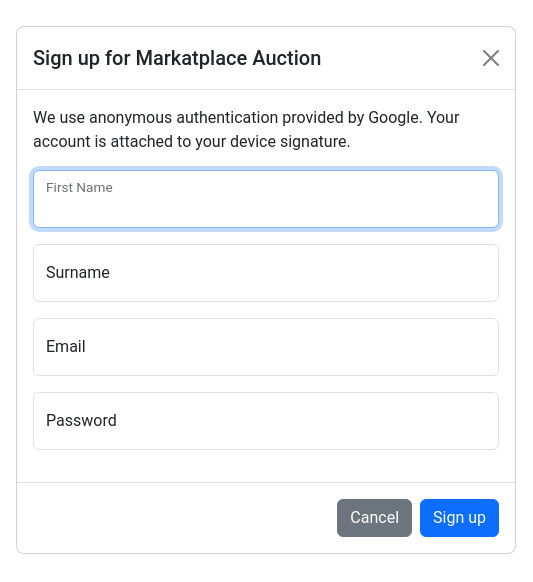
Test: SignUpModal › Firebase error display › displays Firebase error message when createUserWithEmailAndPassword rejects
Type "Jane" into the field with placeholder "Enter your first name".
click(266, 199); type("Jane")  # box [33, 170, 499, 228]
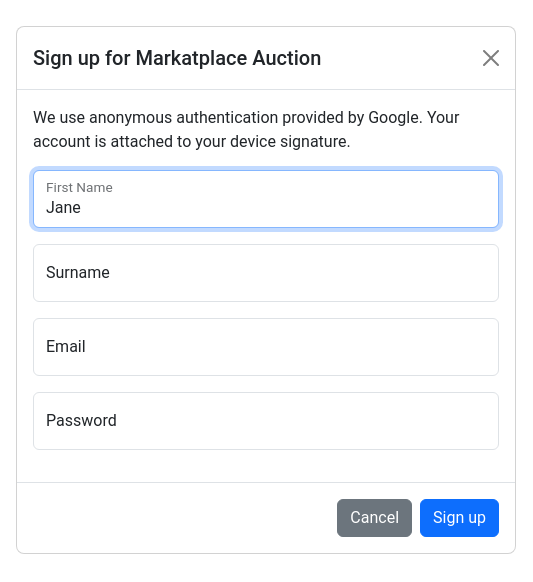
Type "Smith" into the field with placeholder "Enter your surname".
click(266, 273); type("Smith")  # box [33, 244, 499, 302]
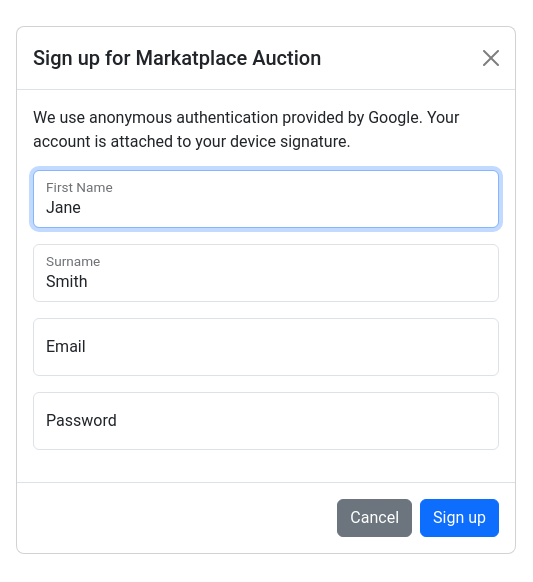
Type "jane@example.com" into the field with placeholder "Enter your email".
click(266, 347); type("jane@example.com")  # box [33, 318, 499, 376]
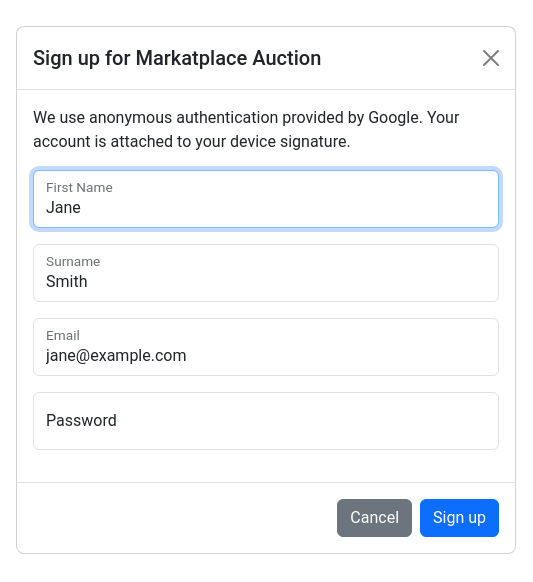
Type "password123" into the password field with placeholder "Enter your password".
click(266, 421); type("password123")  # box [33, 392, 499, 450]
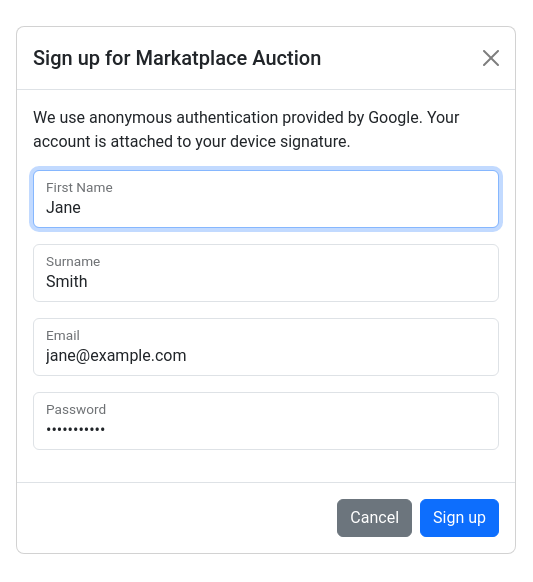
Click the button "Sign up".
click(460, 518)  # box [420, 499, 499, 537]
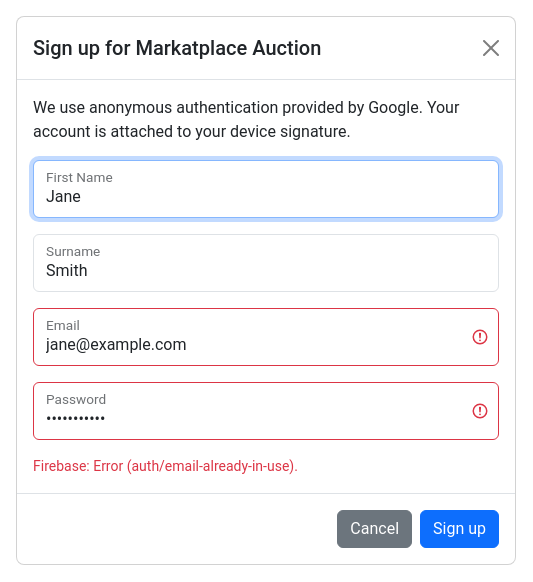
Expected: the text with class "d-block" reads "Firebase: Error (auth/email-already-in-use).", [33, 458, 298, 474]
